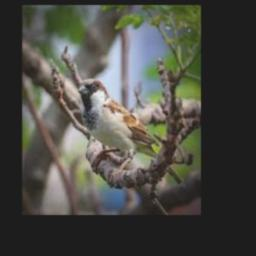Sparrow: (78, 78, 159, 178)
